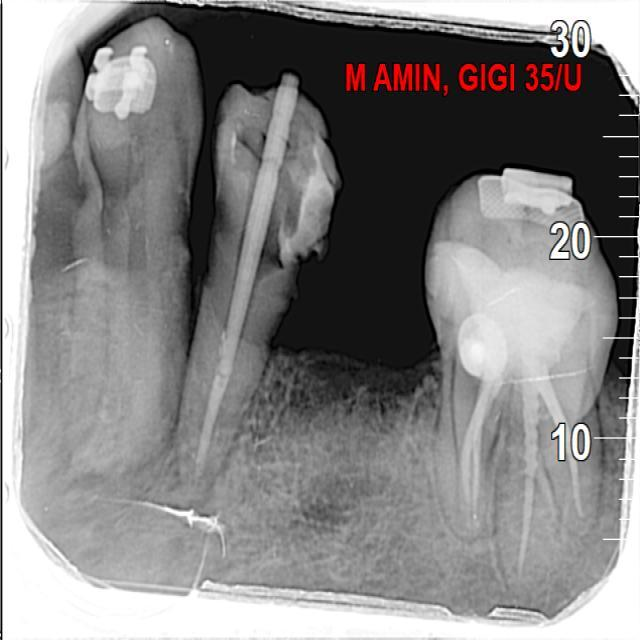individual-tooth-8tto: (425, 174, 615, 548), (173, 74, 332, 498), (66, 24, 198, 481)
